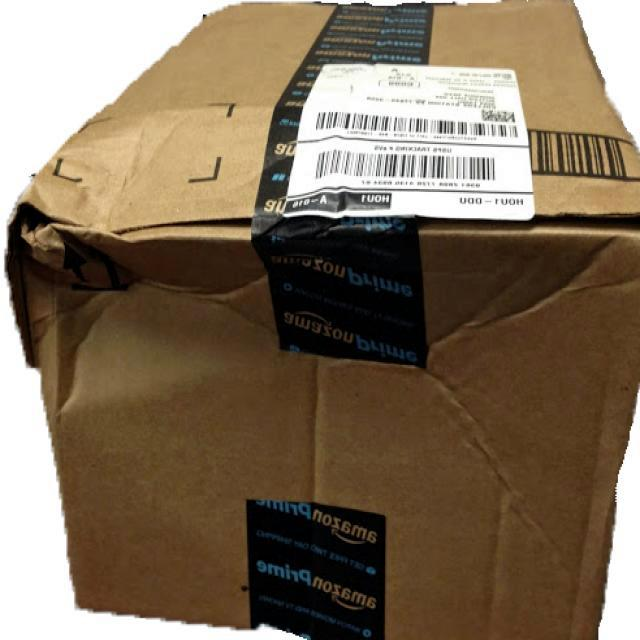deform: (5, 0, 639, 639), (40, 239, 128, 290)
